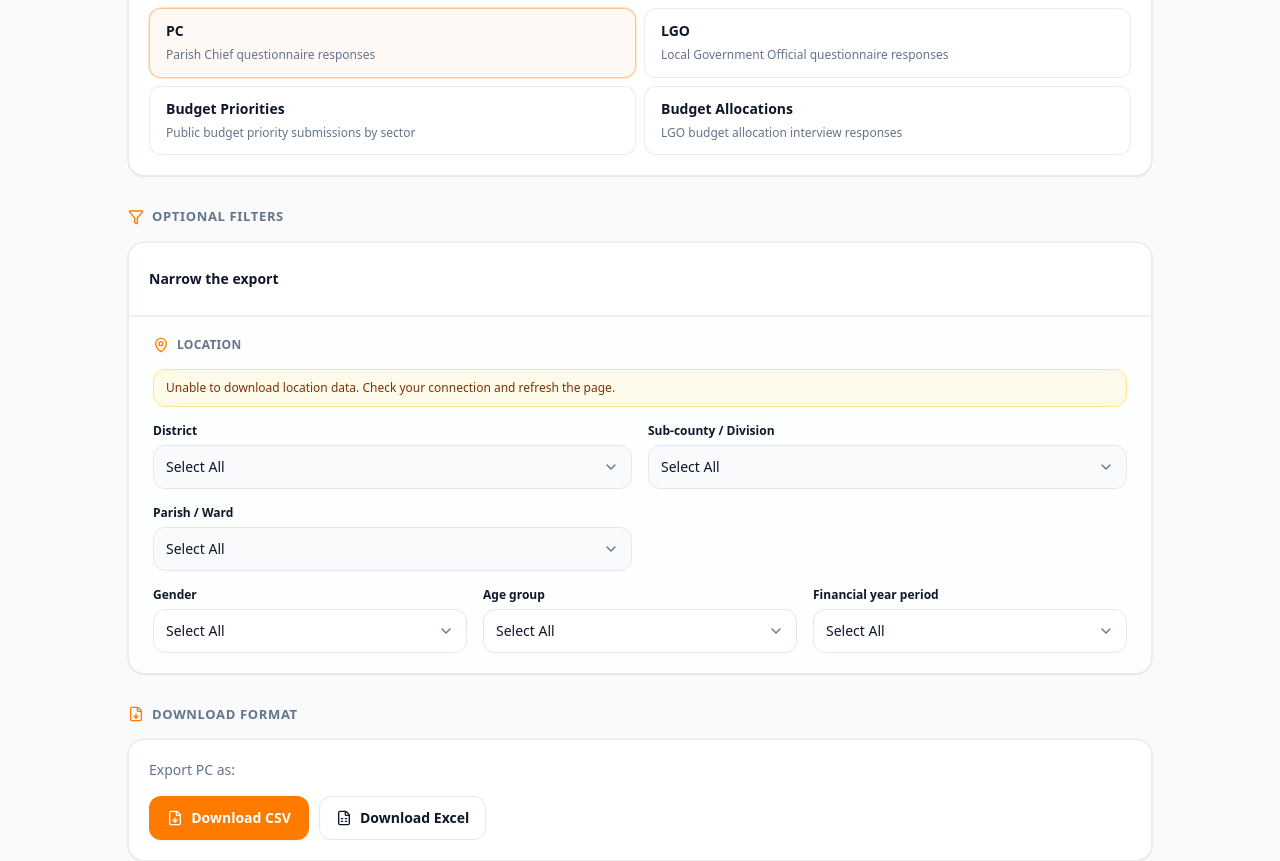
Test: PublicDownloadHubPage › opens the download profile gate when no session exists
(page scrolled)
Click the button with test id "download-hub-export-xlsx" at {"x": 403, "y": 818}, box [319,796,486,840]
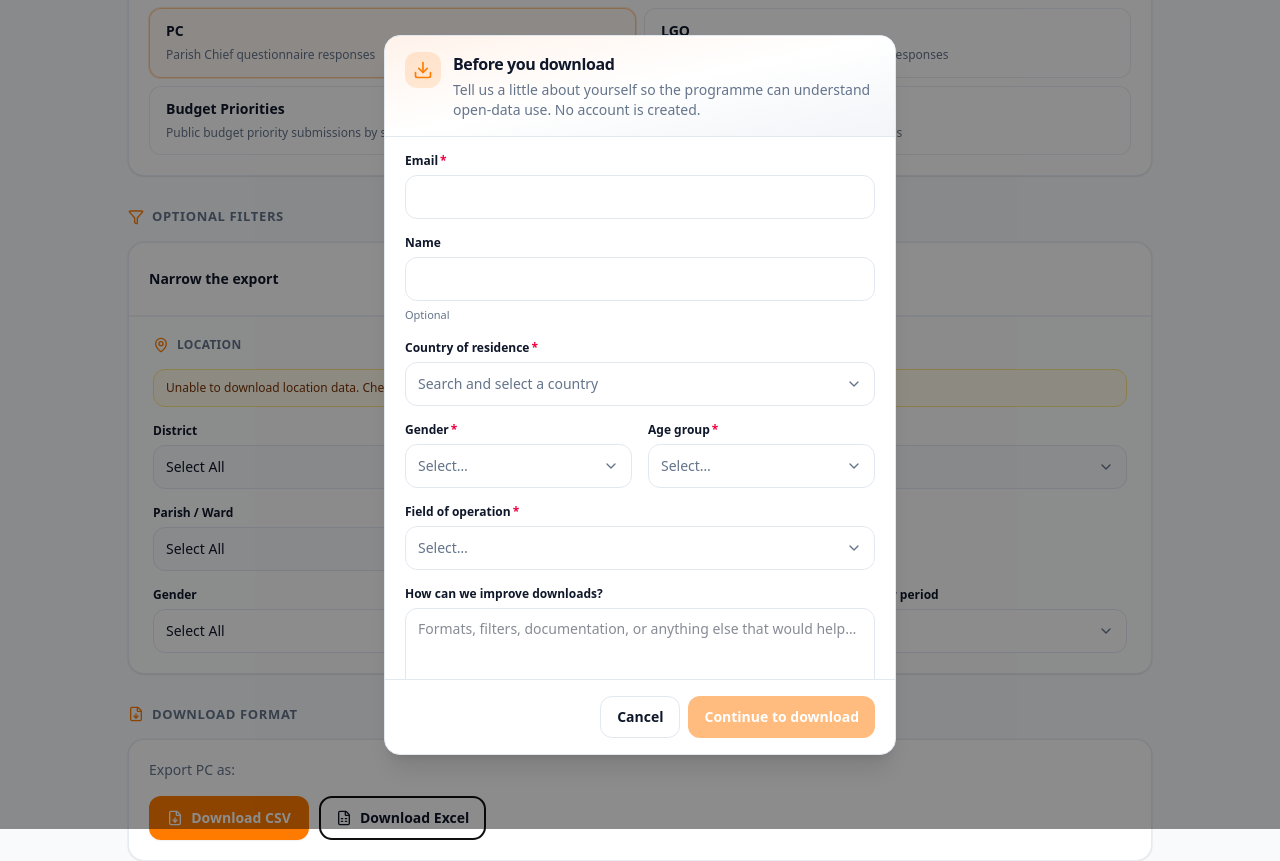
Check: the dialog with test id "download-profile-dialog" is shown, box [384,35,896,755]
